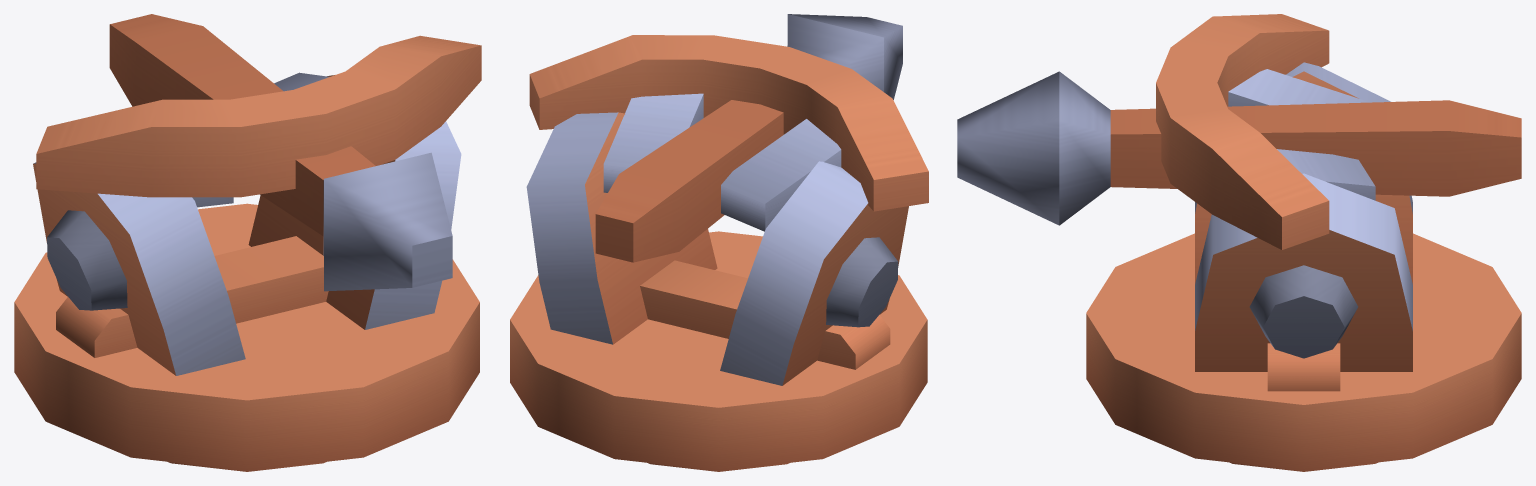
Rendered from cc0-weapon-ballista-lod0.glb.
3 renders of one model, left to right at view 1: azimuth 30°, elevation 25°; view 2: azimuth 150°, elevation 25°; view 3: azimuth 270°, elevation 25°, orthographic. The views are drawn at different scales.
Parts seen in each view (by area): view 1: part_0; view 2: part_0; view 3: part_0.
Part boxes in pixels (<box>): part_0: <box>14,14,481,471</box>; part_0: <box>510,14,928,471</box>; part_0: <box>957,14,1521,471</box>.
Size of the model in its own units: 0.6627 by 0.5 by 0.7776.
Materials: 1 (1 with a texture image).
